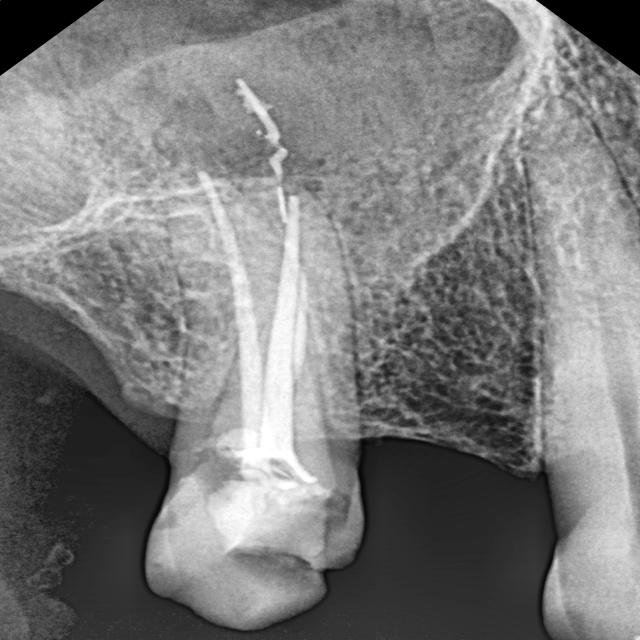RCT: (143, 160, 394, 551)
